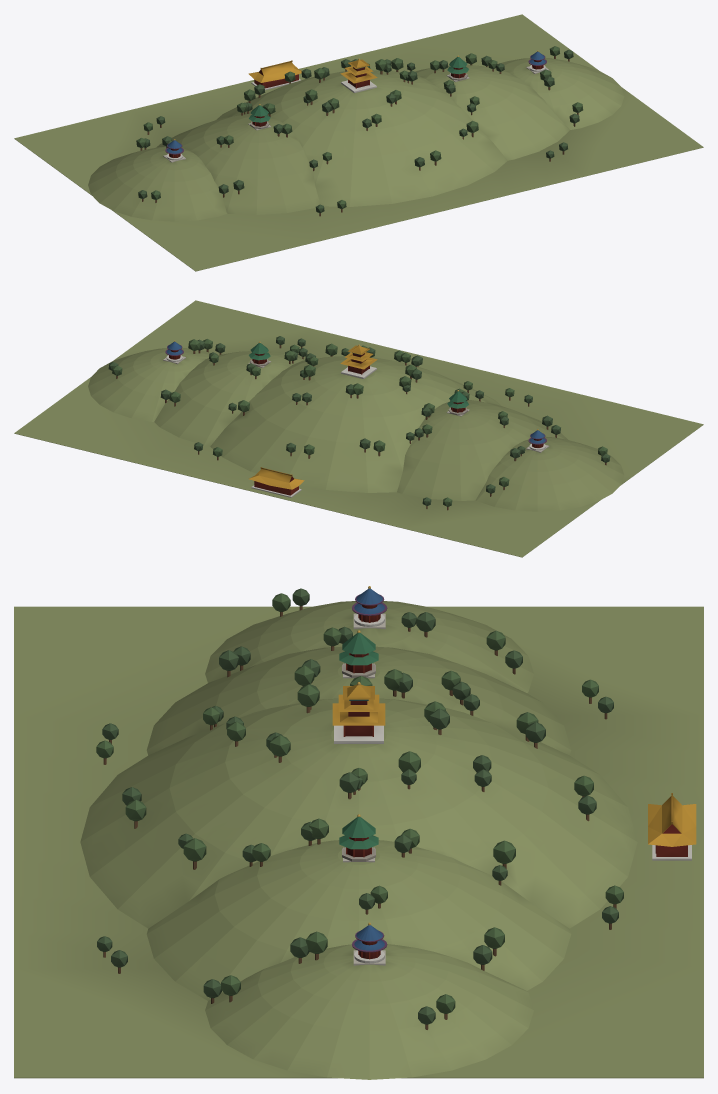
Rendered from jingshan.glb.
The picture shows the model from 3 angles, top to bottom: view 1: azimuth 30°, elevation 25°; view 2: azimuth 150°, elevation 25°; view 3: azimuth 270°, elevation 25°; orthographic projection. The views are drawn at different scales.
Parts seen in each view (by area): view 1: p0_hill, p2_trees, p1_pavilions; view 2: p0_hill, p2_trees, p1_pavilions; view 3: p0_hill, p2_trees, p1_pavilions.
Boxes of the visible parts, bbox=[...] form: p0_hill: bbox=[14, 14, 703, 271]; p2_trees: bbox=[136, 46, 583, 216]; p1_pavilions: bbox=[163, 50, 549, 162]; p0_hill: bbox=[14, 300, 703, 557]; p2_trees: bbox=[108, 336, 610, 510]; p1_pavilions: bbox=[163, 340, 549, 497]; p0_hill: bbox=[14, 601, 703, 1079]; p2_trees: bbox=[96, 588, 623, 1029]; p1_pavilions: bbox=[332, 586, 696, 965].
Size of the model in its own units: 424 by 66.84 by 260.
